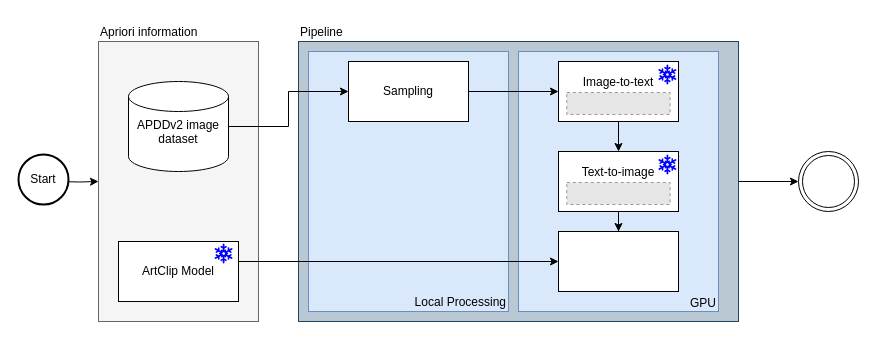
Image size: 876x339. Some labels were removed from this diagram. Grey dashed boxes stand in for pictures. The centre of each missing label's shape, as x and y in pixels:
End: the point at 828,181
Scoring: the point at 618,261
